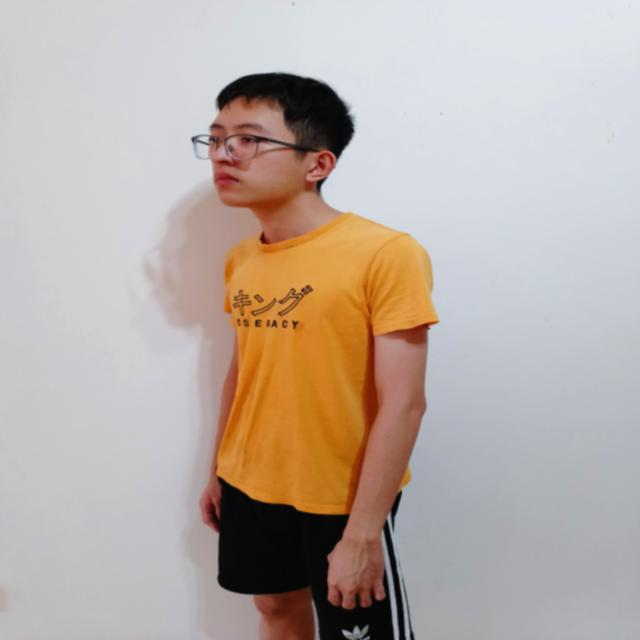person_without_labcoat: (192, 73, 438, 640)
